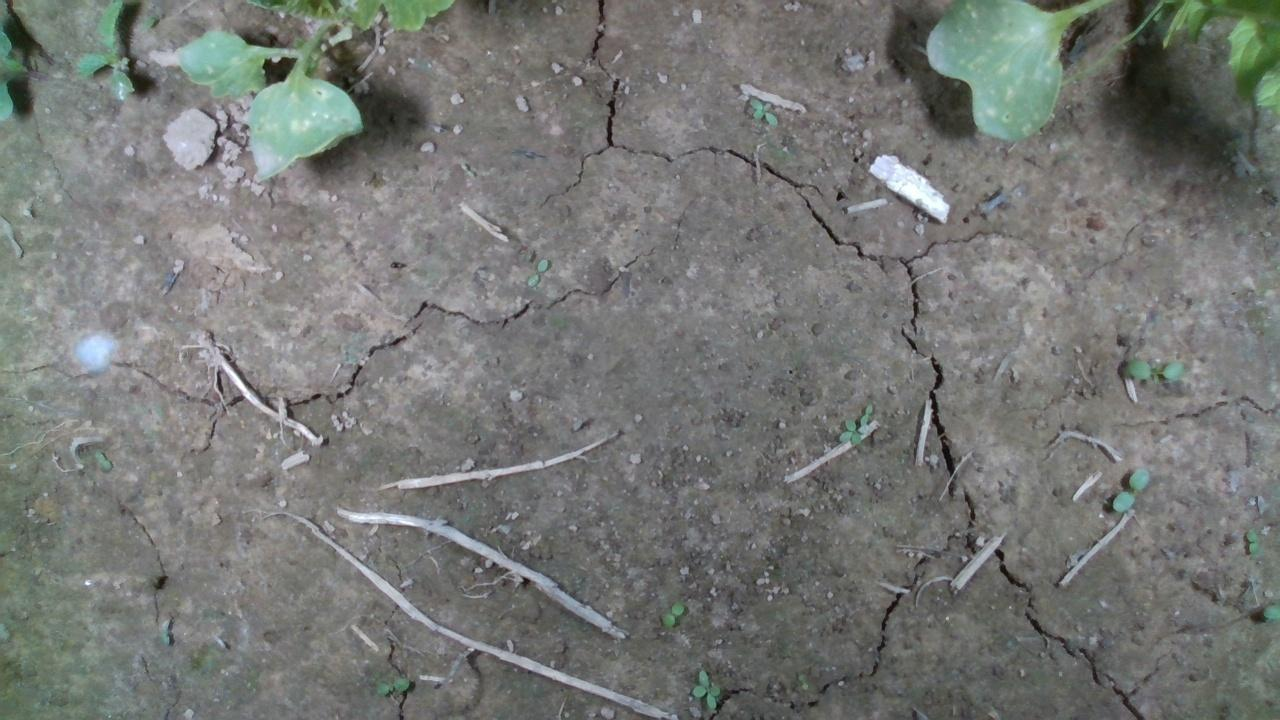weed: (1110, 466, 1146, 513), (688, 666, 719, 710), (1125, 359, 1182, 380), (747, 96, 778, 125), (372, 673, 408, 697), (660, 600, 684, 629), (1246, 526, 1257, 553)
